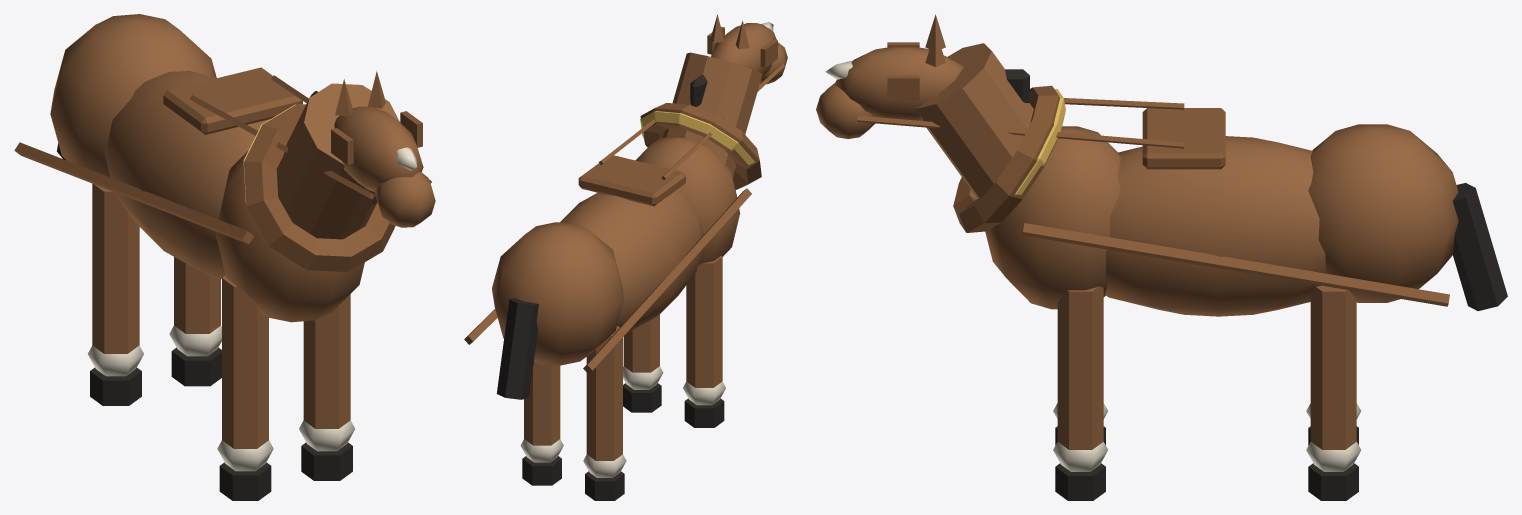
The model's file is unit_draught_horse.glb.
3 views of the same model, side by side, from view 1: azimuth 30°, elevation 25°; view 2: azimuth 150°, elevation 25°; view 3: azimuth 270°, elevation 25° (orthographic). The views are drawn at different scales.
Parts seen in each view (by area): view 1: unit_draught_horse; view 2: unit_draught_horse; view 3: unit_draught_horse.
Part boxes in pixels (left/top/right/bottom): unit_draught_horse: left=14, top=14, right=435, bottom=500; unit_draught_horse: left=464, top=14, right=787, bottom=500; unit_draught_horse: left=816, top=14, right=1507, bottom=500.
Size of the model in its own units: 0.82 by 2.16 by 3.01.
